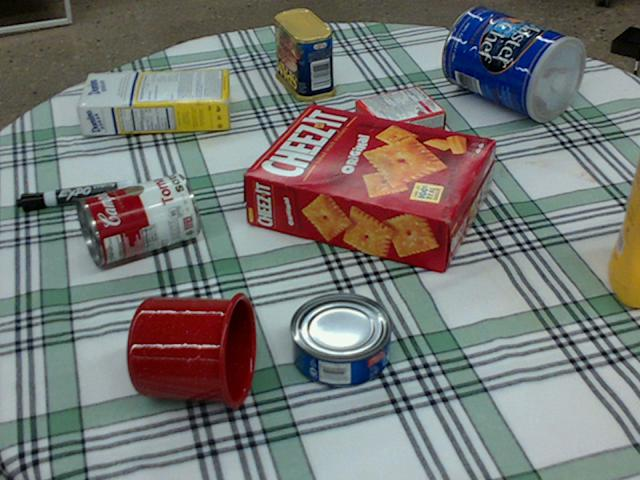cracker_box: (244, 101, 494, 270)
gelatin_box: (352, 82, 444, 146)
large_marker: (15, 178, 133, 211)
master_chef_can: (440, 7, 583, 121)
mug: (125, 288, 255, 407)
mustard_bottle: (607, 137, 639, 305)
potted_meat_can: (273, 8, 335, 100)
sugar_box: (77, 69, 230, 133)
tomato_soup_can: (75, 171, 199, 265)
tuna_fish_can: (289, 292, 392, 387)
